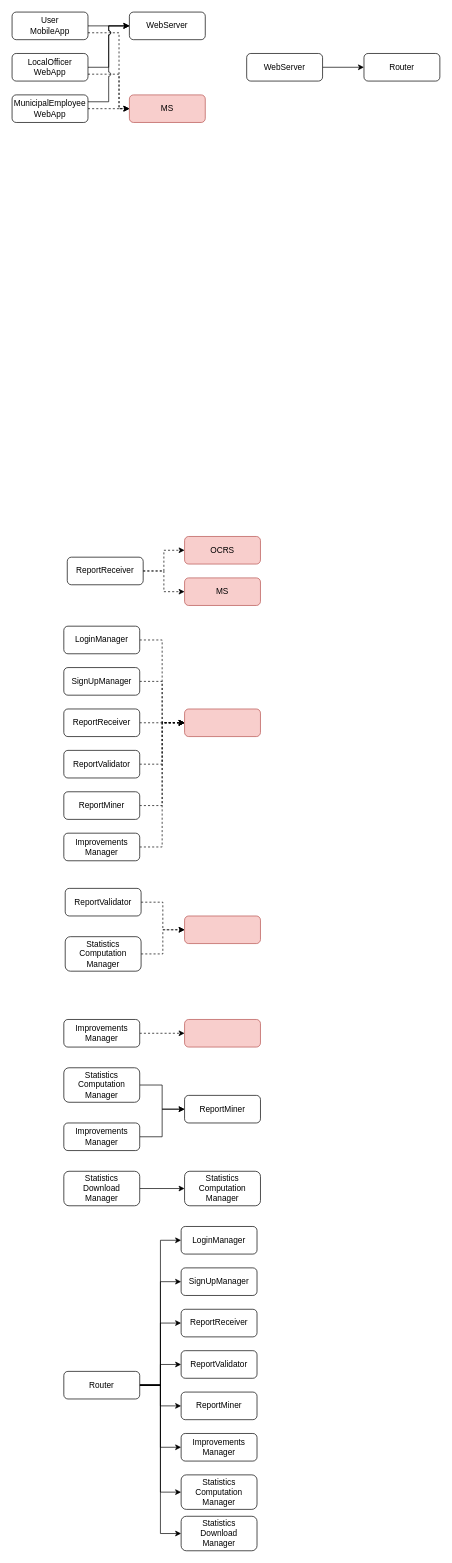
This 452x1563 diagram has some shape labels left out. Each missing label, with the centre of its shape:
DBMS: point 222,722
MAS: point 222,1033
TS: point 222,929
